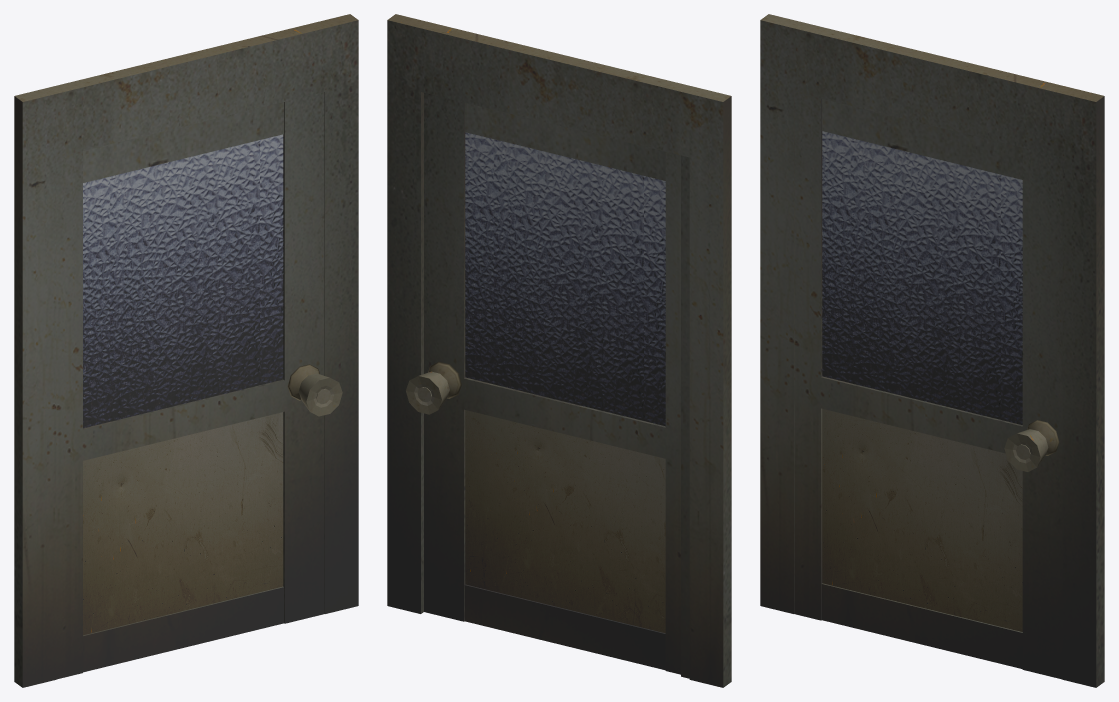
Rendered from RoomDoor.fbx.
3 renders of one model, left to right at view 1: azimuth 30°, elevation 25°; view 2: azimuth 150°, elevation 25°; view 3: azimuth 330°, elevation 25°, orthographic.
Parts seen in each view (by area): view 1: DoorBase, Flame, DoorKnob2; view 2: DoorBase, Flame, DoorKnob1; view 3: DoorBase, Flame, DoorKnob2.
Boxes of the visible parts, x1,y1,x2,y2 form: DoorBase: [56, 92, 324, 679]; Flame: [14, 14, 358, 687]; DoorKnob2: [287, 364, 342, 416]; DoorBase: [424, 93, 680, 674]; Flame: [387, 14, 731, 687]; DoorKnob1: [406, 361, 461, 414]; DoorBase: [794, 92, 1062, 679]; Flame: [760, 14, 1104, 687]; DoorKnob2: [1004, 420, 1059, 471].
Bounding box in the file's own units: 300 × 500 × 70.51.
